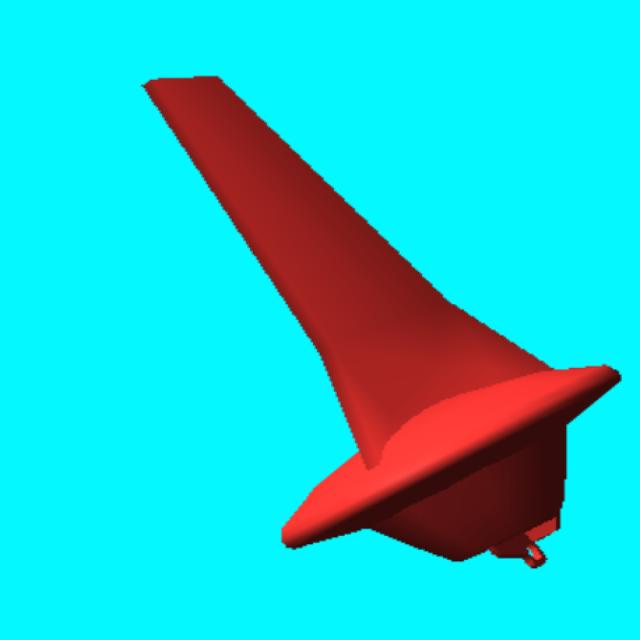RedBuoy: (145, 78, 619, 567)
